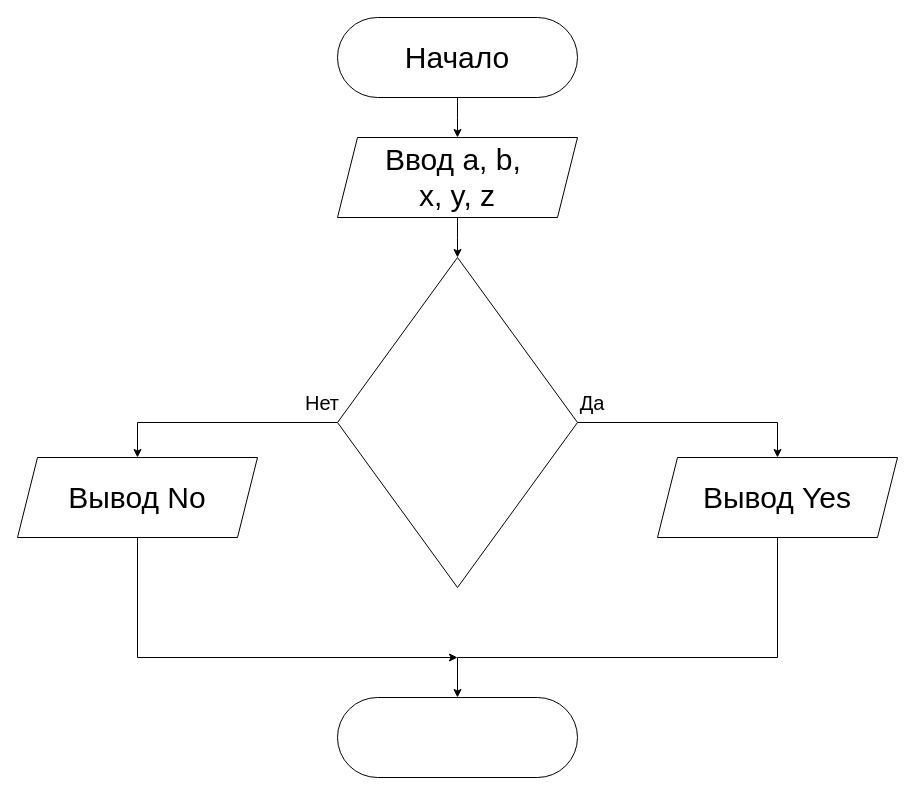
Image size: 915x795. Some labels were removed from this diagram. Each missing label, with the centre of its shape:
"a*b>=x*y или a*b>=x*z или a*b>=y*z" belongs at point (457, 422).
"Конец" belongs at point (457, 737).
